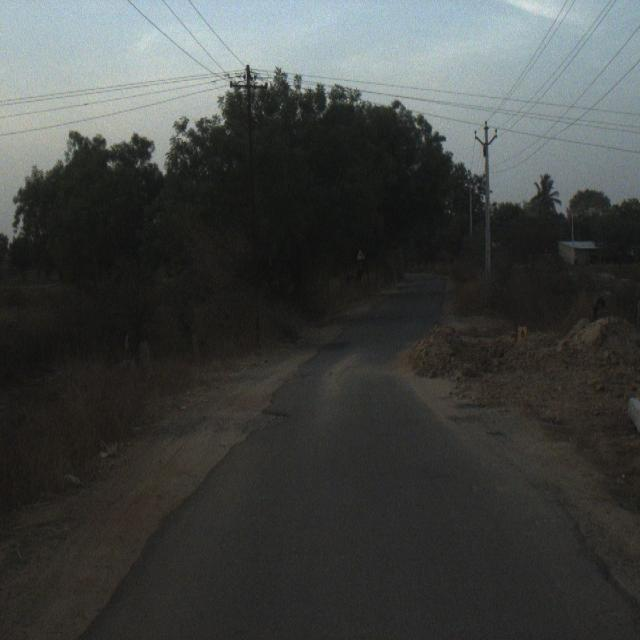pothole: (244, 397, 312, 461)
